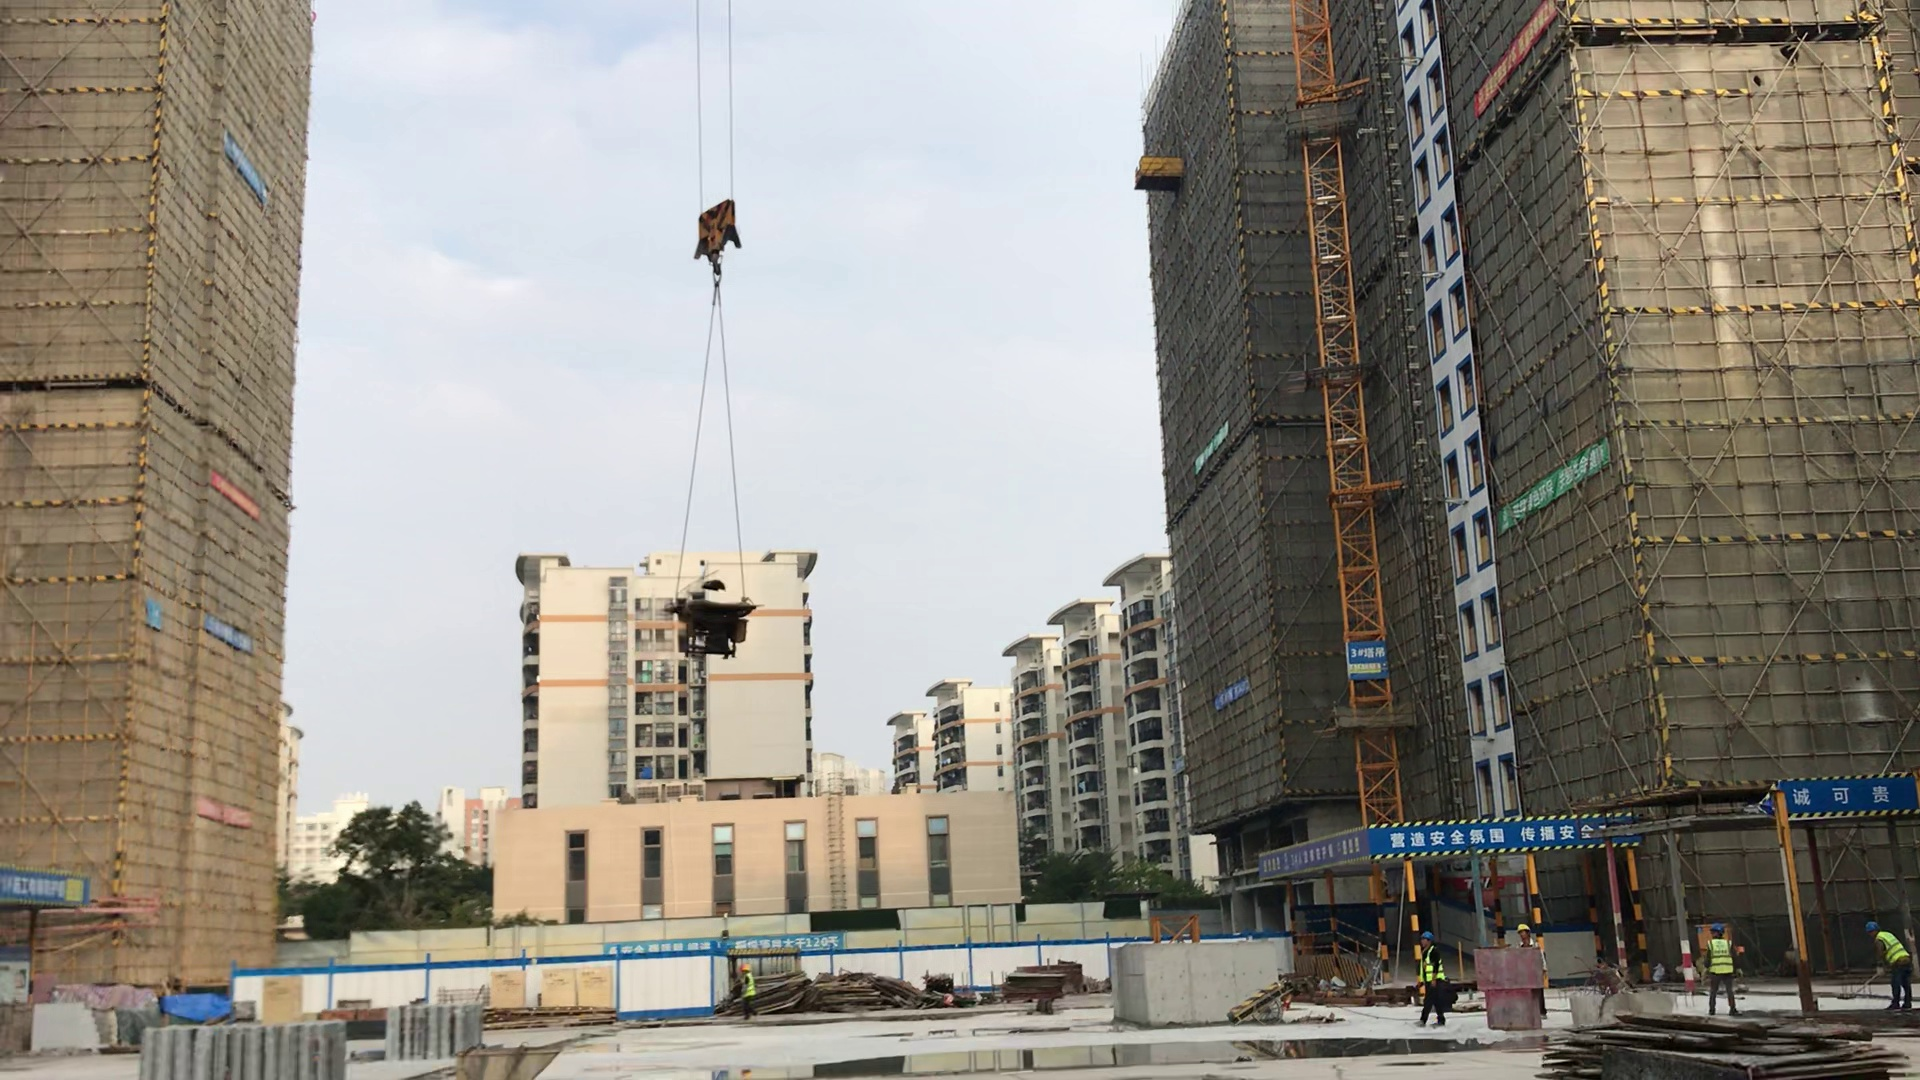helmet: (1708, 924, 1725, 935), (1864, 921, 1882, 931), (1514, 923, 1531, 932), (1419, 931, 1435, 940)
hook: (690, 192, 745, 279)
person: (1853, 919, 1918, 1015), (1407, 931, 1457, 1028), (1697, 923, 1749, 1016), (1513, 923, 1558, 1023), (730, 964, 766, 1021)
slogan: (1374, 812, 1624, 857), (1491, 448, 1616, 537), (1473, 2, 1553, 113), (1784, 763, 1911, 820), (1258, 829, 1377, 886), (220, 123, 271, 202), (210, 467, 264, 519), (1188, 427, 1232, 479), (198, 617, 256, 656), (203, 794, 254, 827), (1215, 681, 1250, 709)
vest: (1873, 935, 1911, 966), (1706, 940, 1734, 975), (1417, 952, 1445, 983), (737, 976, 756, 997)
